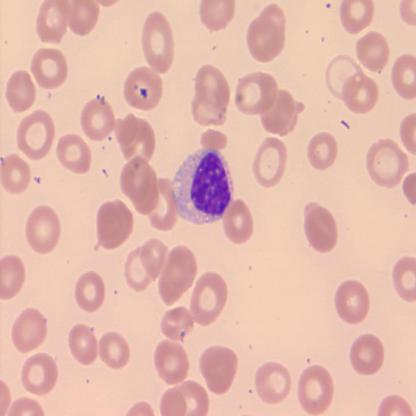Metamyelocyte: (170, 147, 235, 226)
